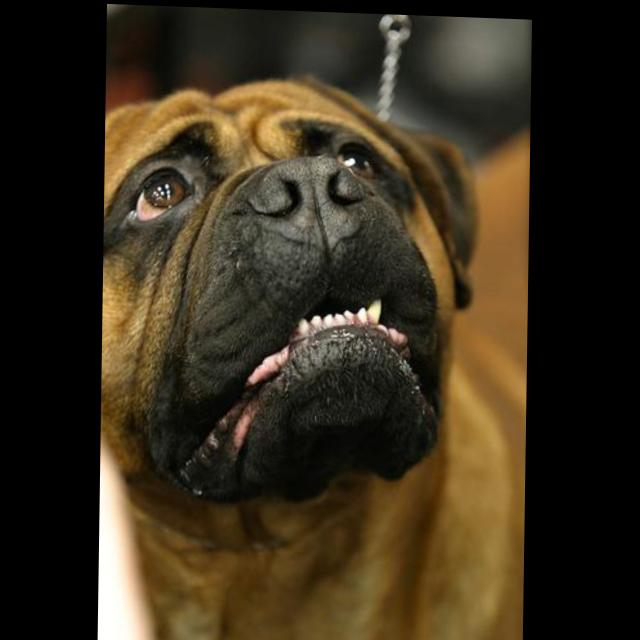bullmastiff: (101, 65, 533, 640)
